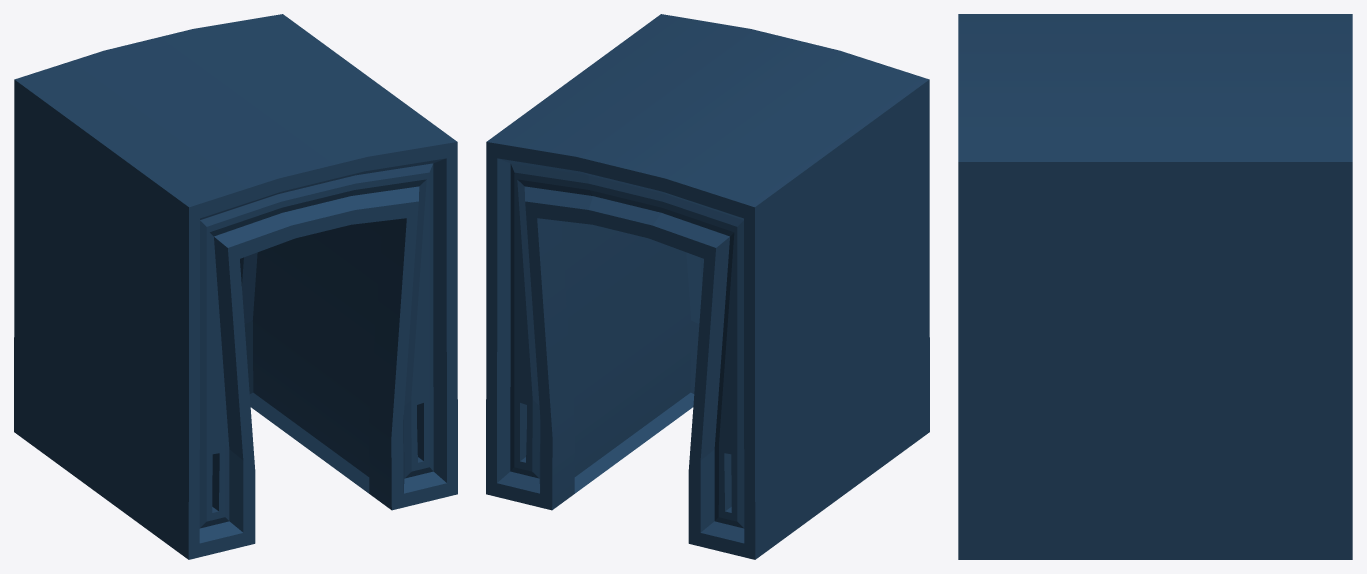
Rendered from Door_Small.fbx.
3 renders of one model, left to right at view 1: azimuth 30°, elevation 25°; view 2: azimuth 150°, elevation 25°; view 3: azimuth 270°, elevation 25°, orthographic. The views are drawn at different scales.
Visible parts, largest first — view 1: Boor_Small; view 2: Boor_Small; view 3: Boor_Small.
Part boxes in pixels (x1=…): Boor_Small: x1=14, y1=14, x2=457, y2=559; Boor_Small: x1=486, y1=14, x2=929, y2=559; Boor_Small: x1=958, y1=14, x2=1352, y2=559.
Bounding box in the file's own units: 191 × 244 × 215.
